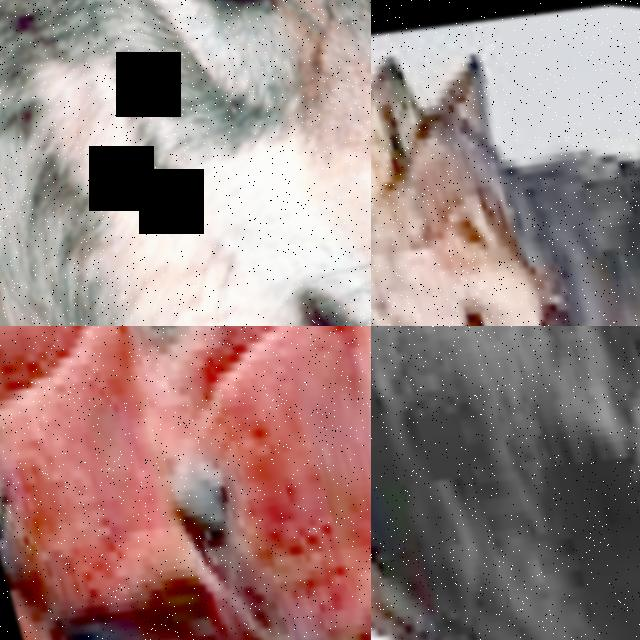dog: (0, 326, 371, 640), (0, 326, 303, 640), (73, 326, 371, 640), (371, 326, 640, 640)
wolf: (0, 0, 371, 326), (371, 0, 640, 326)
